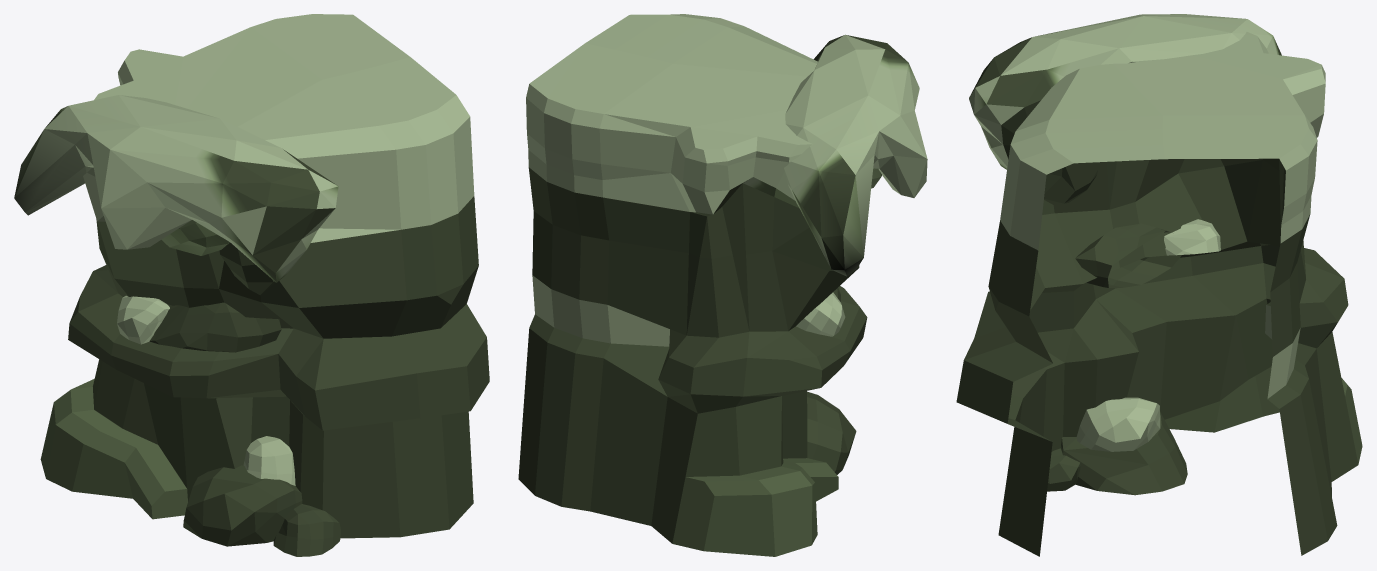
The model's file is EA_Swamp_Wall_03b.glb.
3 renders of one model, left to right at view 1: azimuth 30°, elevation 25°; view 2: azimuth 150°, elevation 25°; view 3: azimuth 270°, elevation 25°, orthographic. The views are drawn at different scales.
Parts seen in each view (by area): view 1: EA_Swamp_Wall_03b; view 2: EA_Swamp_Wall_03b; view 3: EA_Swamp_Wall_03b.
Part boxes in pixels (x1=…): EA_Swamp_Wall_03b: x1=14, y1=14, x2=489, y2=556; EA_Swamp_Wall_03b: x1=518, y1=14, x2=927, y2=556; EA_Swamp_Wall_03b: x1=956, y1=14, x2=1362, y2=556.
Size of the model in its own units: 7.13 by 8.29 by 7.38.
Materials: 1 (1 with a texture image).
